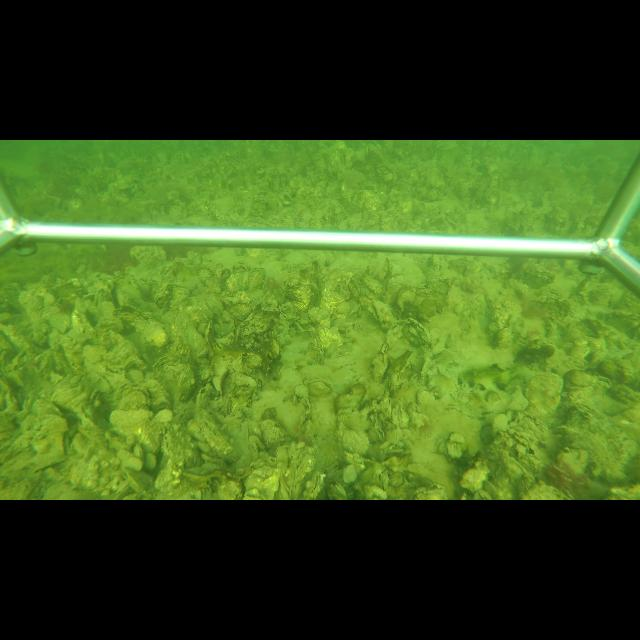Oyster-Closed: (387, 318, 429, 357), (108, 406, 152, 434), (391, 350, 415, 390), (177, 362, 194, 402), (305, 470, 325, 498), (245, 267, 266, 290), (381, 257, 393, 282), (204, 320, 212, 344)
